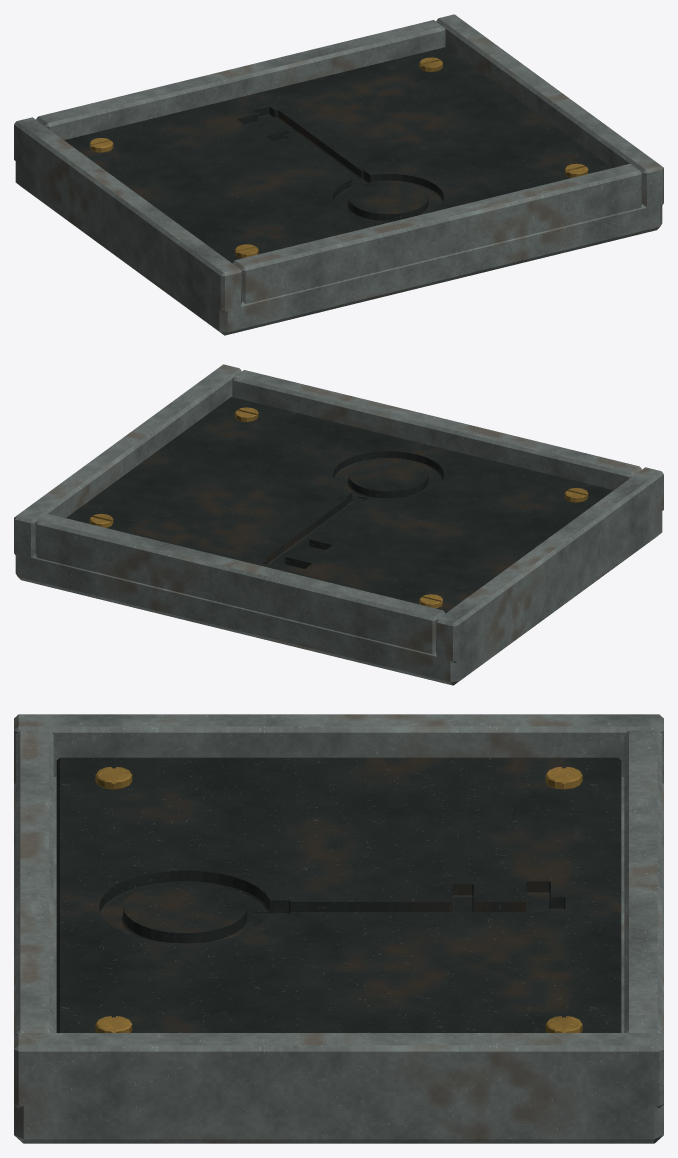
The model's file is KeyMold.fbx.
3 renders of one model, top to bottom at view 1: azimuth 30°, elevation 25°; view 2: azimuth 150°, elevation 25°; view 3: azimuth 270°, elevation 25°, orthographic. The views are drawn at different scales.
Visible parts, largest first — view 1: KeyMold_01_Dark mold face, KeyMold_04_End frame rail, KeyMold_00_Mold steel base, KeyMold_02_Side frame rail, KeyMold_05_End frame rail, KeyMold_03_Side frame rail; view 2: KeyMold_01_Dark mold face, KeyMold_05_End frame rail, KeyMold_00_Mold steel base, KeyMold_02_Side frame rail, KeyMold_04_End frame rail, KeyMold_03_Side frame rail; view 3: KeyMold_01_Dark mold face, KeyMold_03_Side frame rail, KeyMold_00_Mold steel base, KeyMold_02_Side frame rail, KeyMold_04_End frame rail, KeyMold_05_End frame rail, KeyMold_06_Corner brass fastener, KeyMold_07_Corner brass fastener.
Part boxes in pixels (<box>): KeyMold_01_Dark mold face: <box>64,47,611,263</box>; KeyMold_04_End frame rail: <box>232,164,642,303</box>; KeyMold_00_Mold steel base: <box>15,161,662,335</box>; KeyMold_02_Side frame rail: <box>14,117,241,312</box>; KeyMold_05_End frame rail: <box>36,20,445,139</box>; KeyMold_03_Side frame rail: <box>436,14,663,207</box>; KeyMold_01_Dark mold face: <box>66,397,613,613</box>; KeyMold_05_End frame rail: <box>35,514,445,653</box>; KeyMold_00_Mold steel base: <box>15,511,662,685</box>; KeyMold_02_Side frame rail: <box>436,467,663,662</box>; KeyMold_04_End frame rail: <box>232,370,641,489</box>; KeyMold_03_Side frame rail: <box>14,364,241,557</box>; KeyMold_01_Dark mold face: <box>56,757,621,1032</box>; KeyMold_03_Side frame rail: <box>14,1033,663,1108</box>; KeyMold_00_Mold steel base: <box>14,777,663,1143</box>; KeyMold_02_Side frame rail: <box>14,714,663,783</box>; KeyMold_04_End frame rail: <box>15,730,53,1035</box>; KeyMold_05_End frame rail: <box>624,730,662,1035</box>; KeyMold_06_Corner brass fastener: <box>95,767,132,789</box>; KeyMold_07_Corner brass fastener: <box>545,767,582,789</box>.
Size of the model in its own units: 25 by 3.5 by 20.5.
